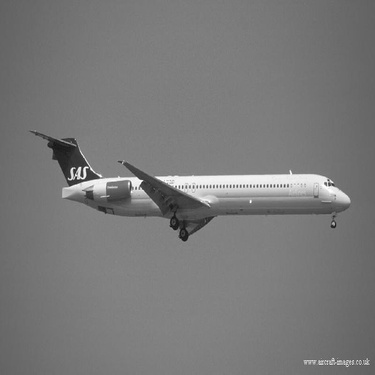airplane: (8, 98, 366, 262)
